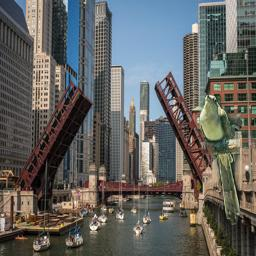Cuckoo: (199, 95, 240, 225)
